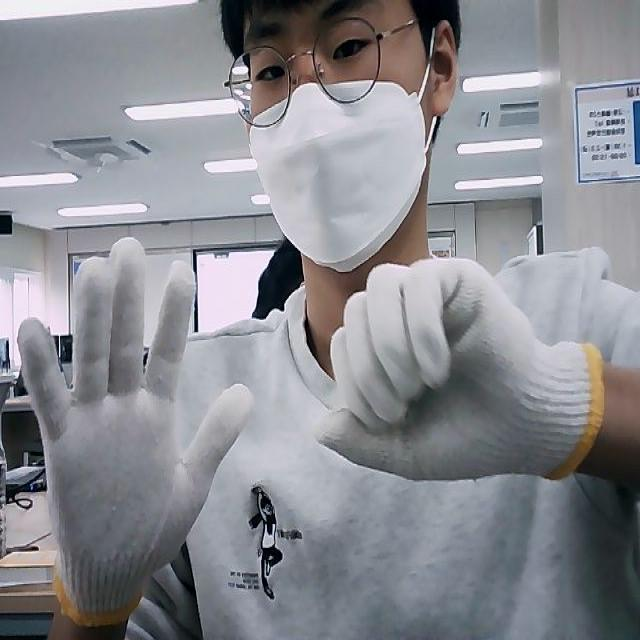gloves: (18, 235, 250, 626), (312, 253, 605, 483)
goggles: (218, 14, 405, 132)
